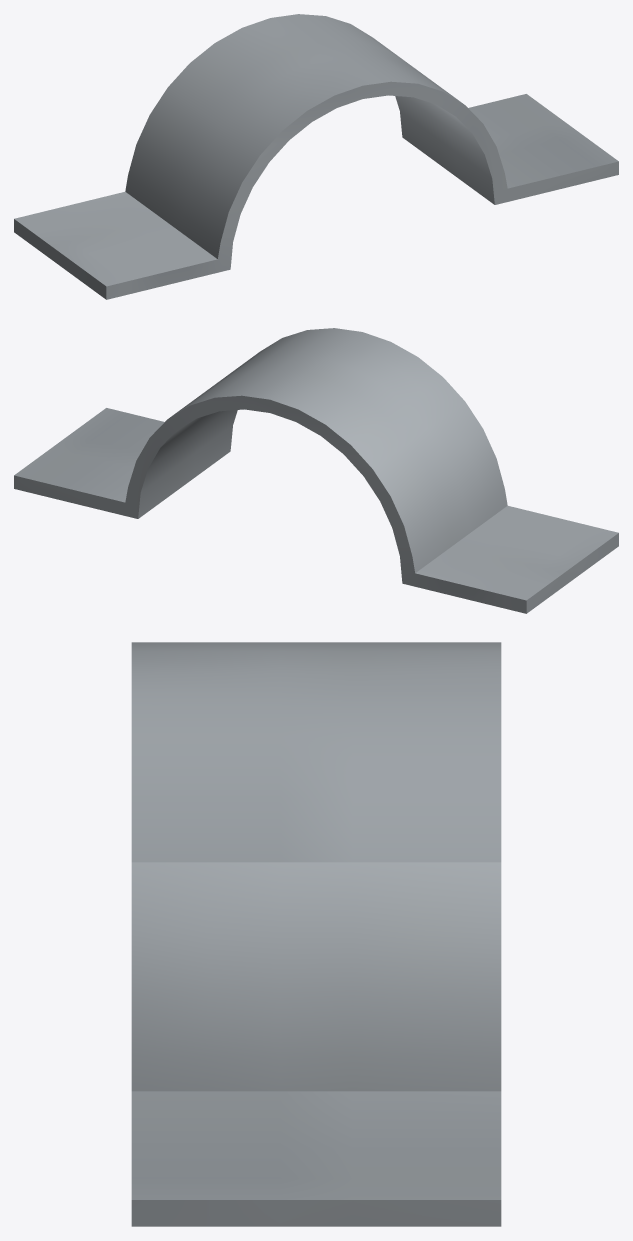
File: HID-INS-004_lod1.glb
3 renders of one model, top to bottom at view 1: azimuth 30°, elevation 25°; view 2: azimuth 150°, elevation 25°; view 3: azimuth 270°, elevation 25°, orthographic. The views are drawn at different scales.
Visible parts, largest first — view 1: HID-INS-004_abracadeira; view 2: HID-INS-004_abracadeira; view 3: HID-INS-004_abracadeira.
Part boxes in pixels (x1,y1,x2,y2): HID-INS-004_abracadeira: (14,14,618,299); HID-INS-004_abracadeira: (14,328,618,613); HID-INS-004_abracadeira: (131,642,501,1226).
Bounding box in the file's own units: 0.064 × 0.0181 × 0.02.
Materials: 1 (1 with a texture image).
